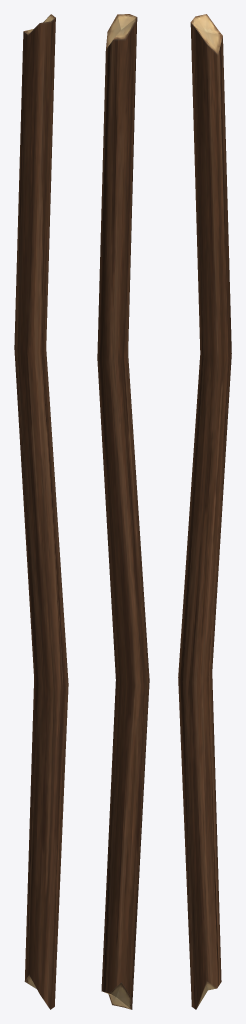
Rendered from TreeBranch.fbx.
3 views of the same model, side by side, from view 1: azimuth 90°, elevation 25°; view 2: azimuth 150°, elevation 25°; view 3: azimuth 270°, elevation 25° (orthographic).
Parts seen in each view (by area): view 1: Tree Branch; view 2: Tree Branch; view 3: Tree Branch.
Boxes of the visible parts, <box> form: Tree Branch: <box>14,14,68,1009</box>; Tree Branch: <box>97,14,149,1009</box>; Tree Branch: <box>178,14,231,1009</box>.
Bounding box in the file's own units: 0.0622 × 1.5 × 0.0741.
